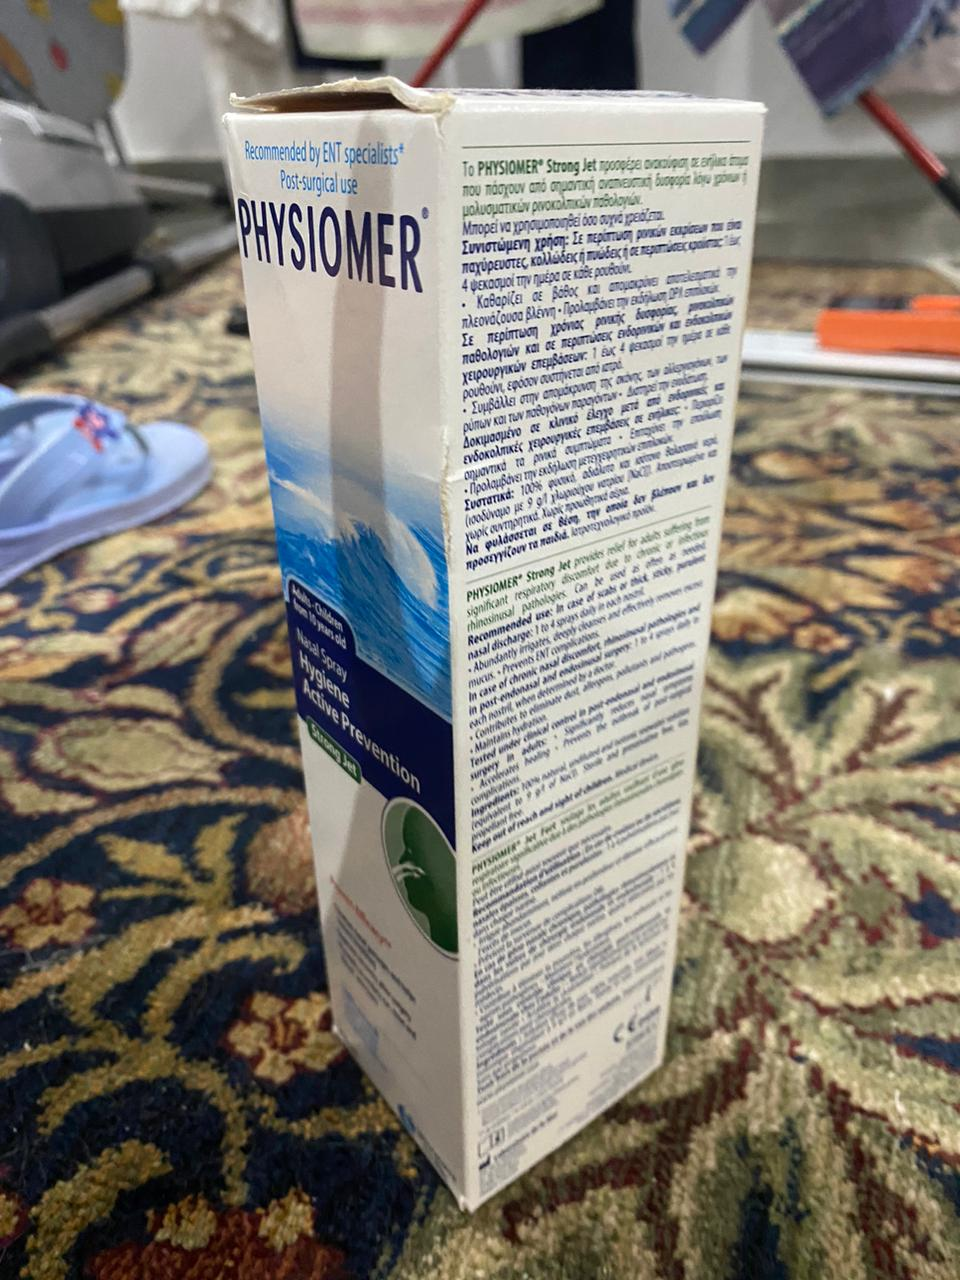Physiomer: (223, 82, 768, 1218)
